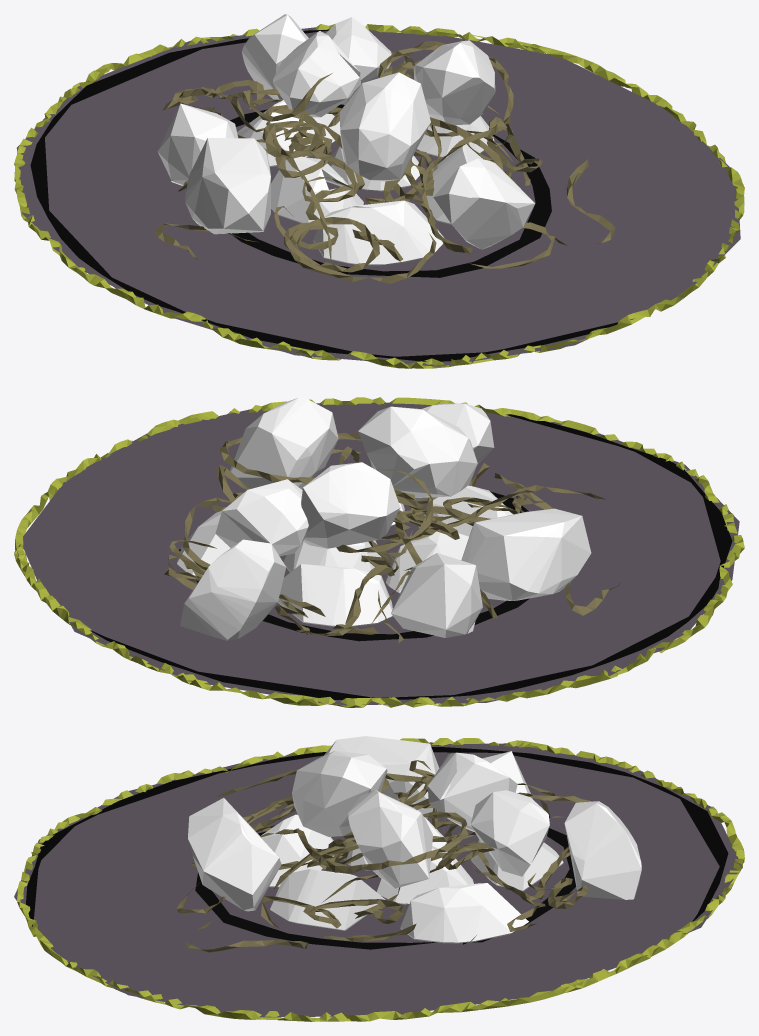
File: beenNoodles_reduced.fbx
3 views of the same model, one above another, from view 1: azimuth 30°, elevation 25°; view 2: azimuth 150°, elevation 25°; view 3: azimuth 270°, elevation 25° (orthographic). The views are drawn at different scales.
Visible parts, largest first — view 1: Untitled_15_Flat_geo, Untitled_15_MatteHull_geo, Untitled_15_Wire_geo; view 2: Untitled_15_Flat_geo, Untitled_15_MatteHull_geo, Untitled_15_Wire_geo; view 3: Untitled_15_Flat_geo, Untitled_15_MatteHull_geo, Untitled_15_Wire_geo.
Boxes of the visible parts, bbox=[...] form: Untitled_15_Flat_geo: bbox=[16, 27, 740, 366]; Untitled_15_MatteHull_geo: bbox=[157, 14, 534, 265]; Untitled_15_Wire_geo: bbox=[14, 24, 744, 368]; Untitled_15_Flat_geo: bbox=[23, 402, 739, 705]; Untitled_15_MatteHull_geo: bbox=[177, 397, 591, 640]; Untitled_15_Wire_geo: bbox=[14, 397, 744, 707]; Untitled_15_Flat_geo: bbox=[14, 742, 742, 1017]; Untitled_15_MatteHull_geo: bbox=[188, 736, 641, 943]; Untitled_15_Wire_geo: bbox=[17, 738, 744, 1021].
Size of the model in its own units: 0.5835 by 0.1581 by 0.6321.
